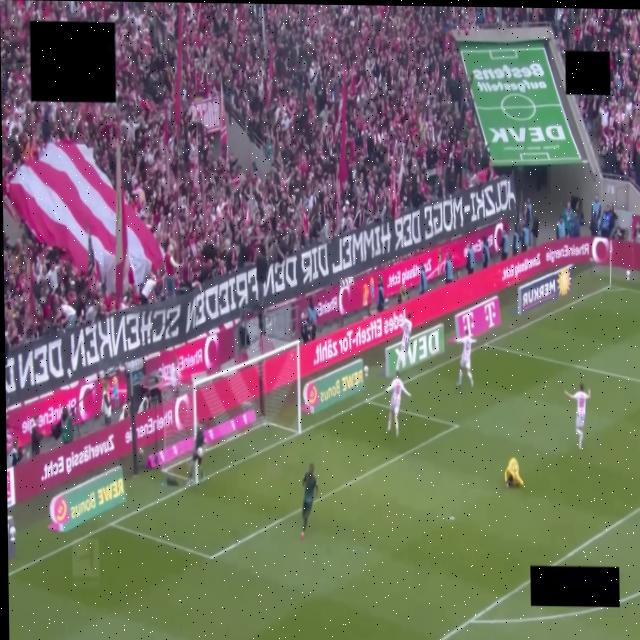player: (565, 383, 590, 448), (386, 371, 409, 436), (301, 463, 317, 539), (455, 328, 475, 387), (395, 313, 412, 370), (188, 428, 204, 484), (504, 458, 522, 487)
